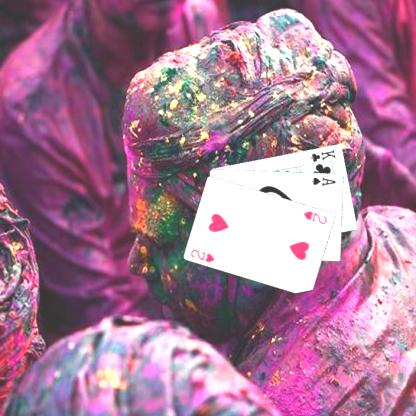2H: (300, 208, 328, 225), (188, 247, 216, 264)
AS: (310, 174, 338, 188)
KC: (307, 147, 337, 166)
